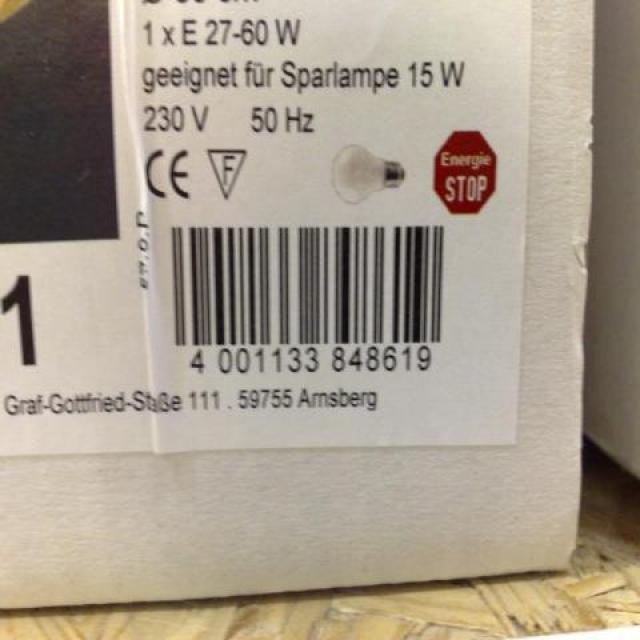Barcode: (159, 216, 458, 384)
